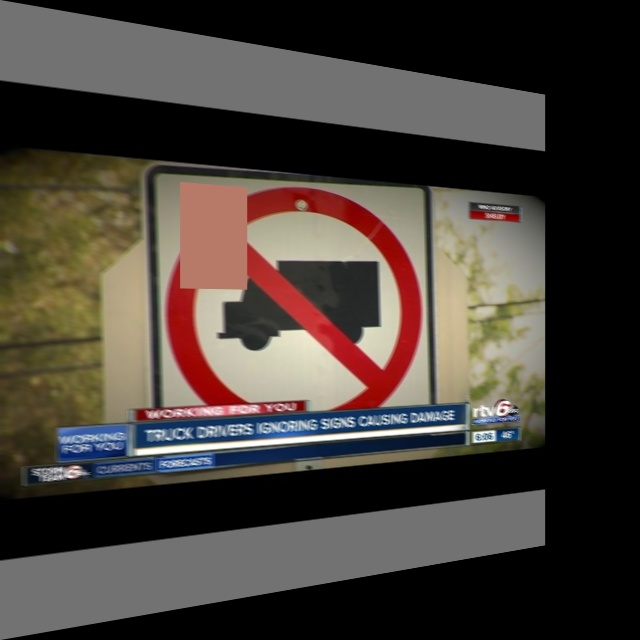Truck_Prohibited: (168, 180, 420, 407)
